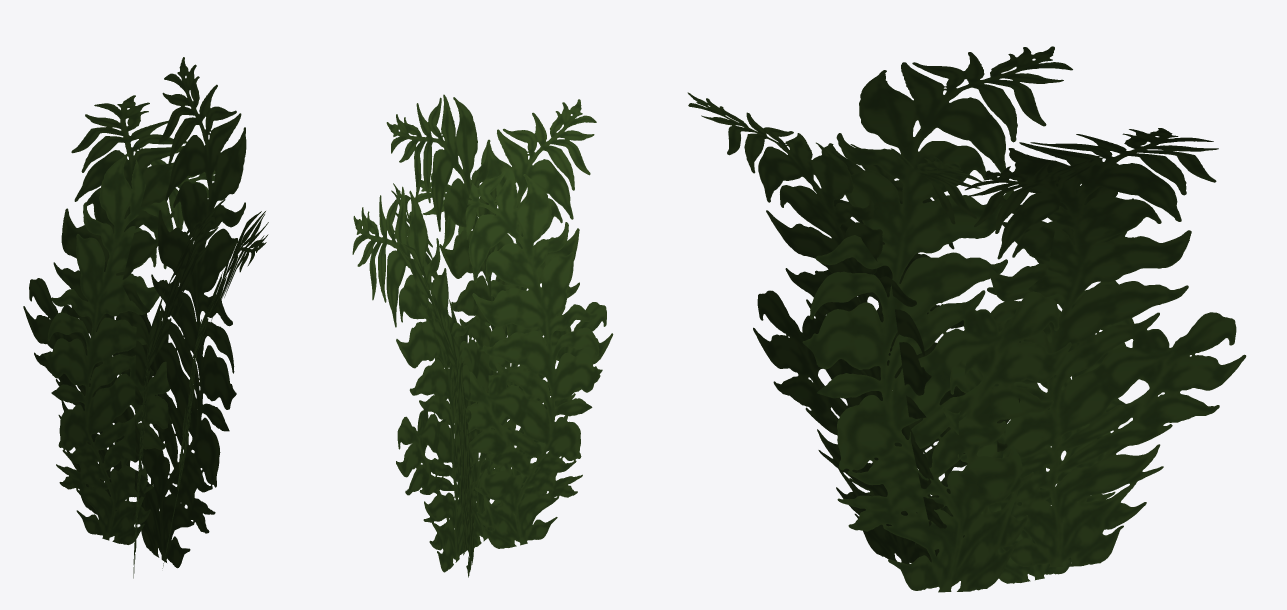
The model's file is SM_Algae.fbx.
3 renders of one model, left to right at view 1: azimuth 30°, elevation 25°; view 2: azimuth 150°, elevation 25°; view 3: azimuth 270°, elevation 25°, orthographic. The views are drawn at different scales.
Visible parts, largest first — view 1: SM_Algae; view 2: SM_Algae; view 3: SM_Algae.
Boxes of the visible parts, left/top/right/bottom form: SM_Algae: left=23, top=57, right=268, bottom=578; SM_Algae: left=352, top=94, right=613, bottom=577; SM_Algae: left=687, top=46, right=1246, bottom=592.
Size of the model in its own units: 1.41 by 3.69 by 3.3.
1 material, 1 textured.
